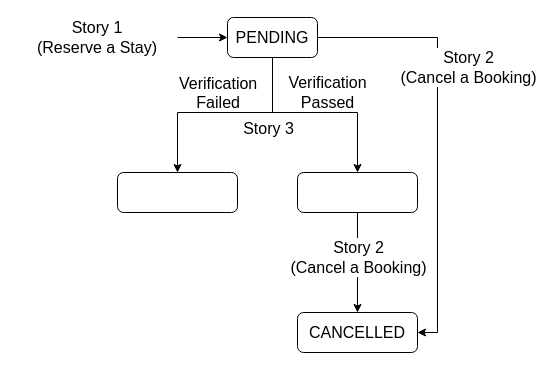
The diagram is 553 pixels wide and 370 high, and some of its shapes have lost their labels. Each missing label, with the centre of its shape:
"CONFIRMED" goes at point 357,192.
"REJECTED" goes at point 177,192.
